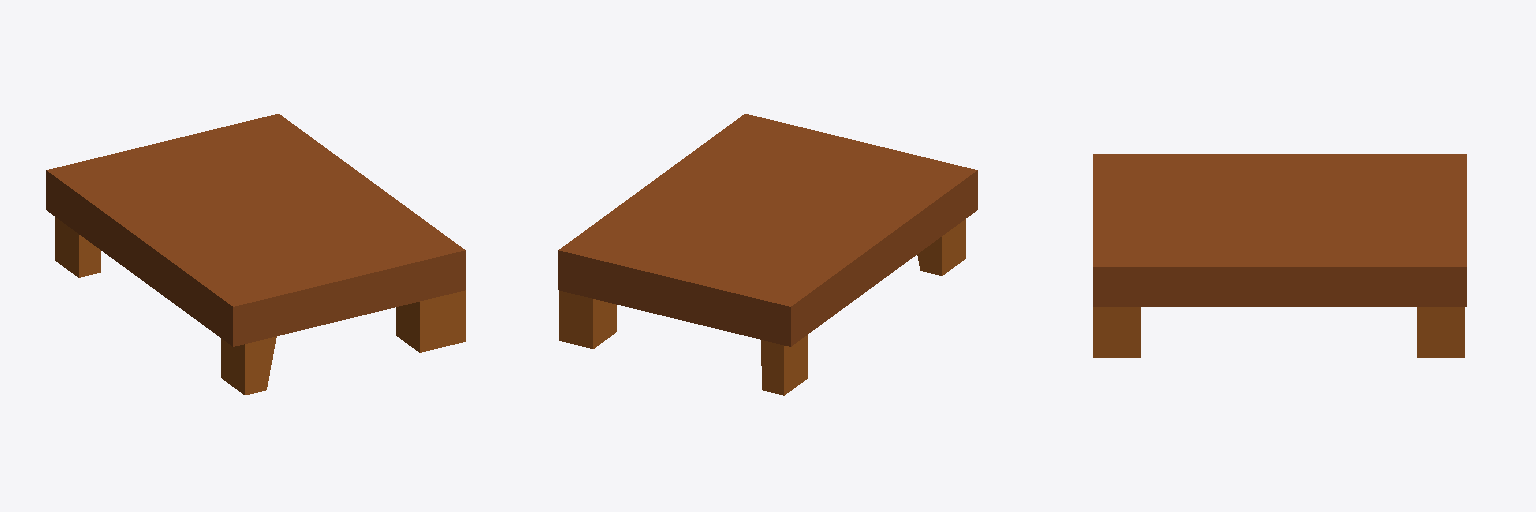
The model's file is Mesa2.obj.
The picture shows the model from 3 angles: view 1: azimuth 30°, elevation 25°; view 2: azimuth 150°, elevation 25°; view 3: azimuth 270°, elevation 25°; orthographic projection.
Parts seen in each view (by area): view 1: Table; view 2: Table; view 3: Table.
Part boxes in pixels (x1,y1,x2,y2): Table: (46,114,465,394); Table: (558,114,977,395); Table: (1093,154,1466,357).
Bounding box in the file's own units: 34.35 × 12.92 × 47.81.